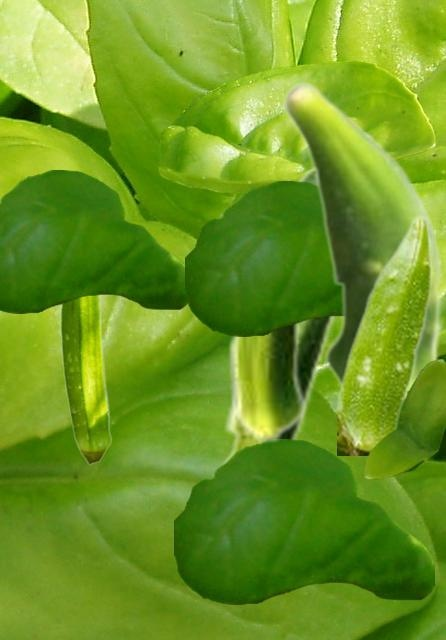okra: (281, 80, 444, 385), (227, 133, 372, 443), (337, 213, 432, 454), (217, 317, 338, 466), (60, 296, 111, 464)
